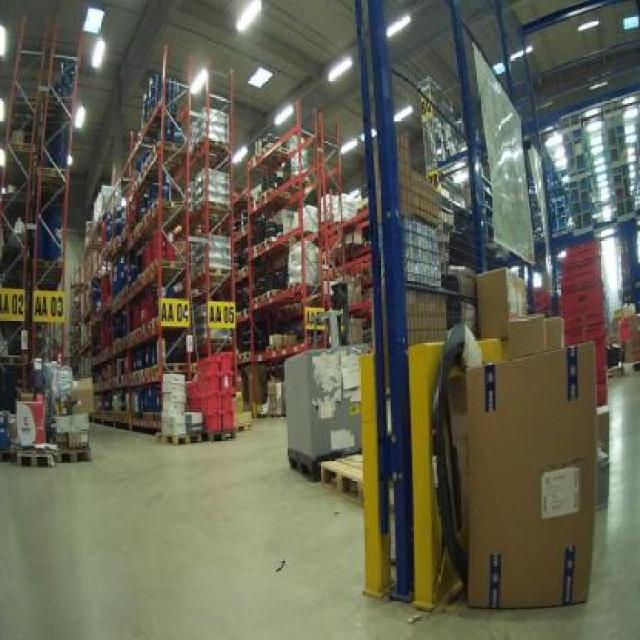ground: (0, 376, 638, 638)
pallet: (315, 451, 363, 506), (286, 445, 317, 483), (11, 449, 56, 471), (148, 431, 203, 446), (198, 263, 236, 280), (55, 449, 92, 465), (36, 165, 71, 180), (252, 287, 280, 305), (201, 200, 235, 210), (0, 354, 27, 366), (7, 141, 36, 151)
